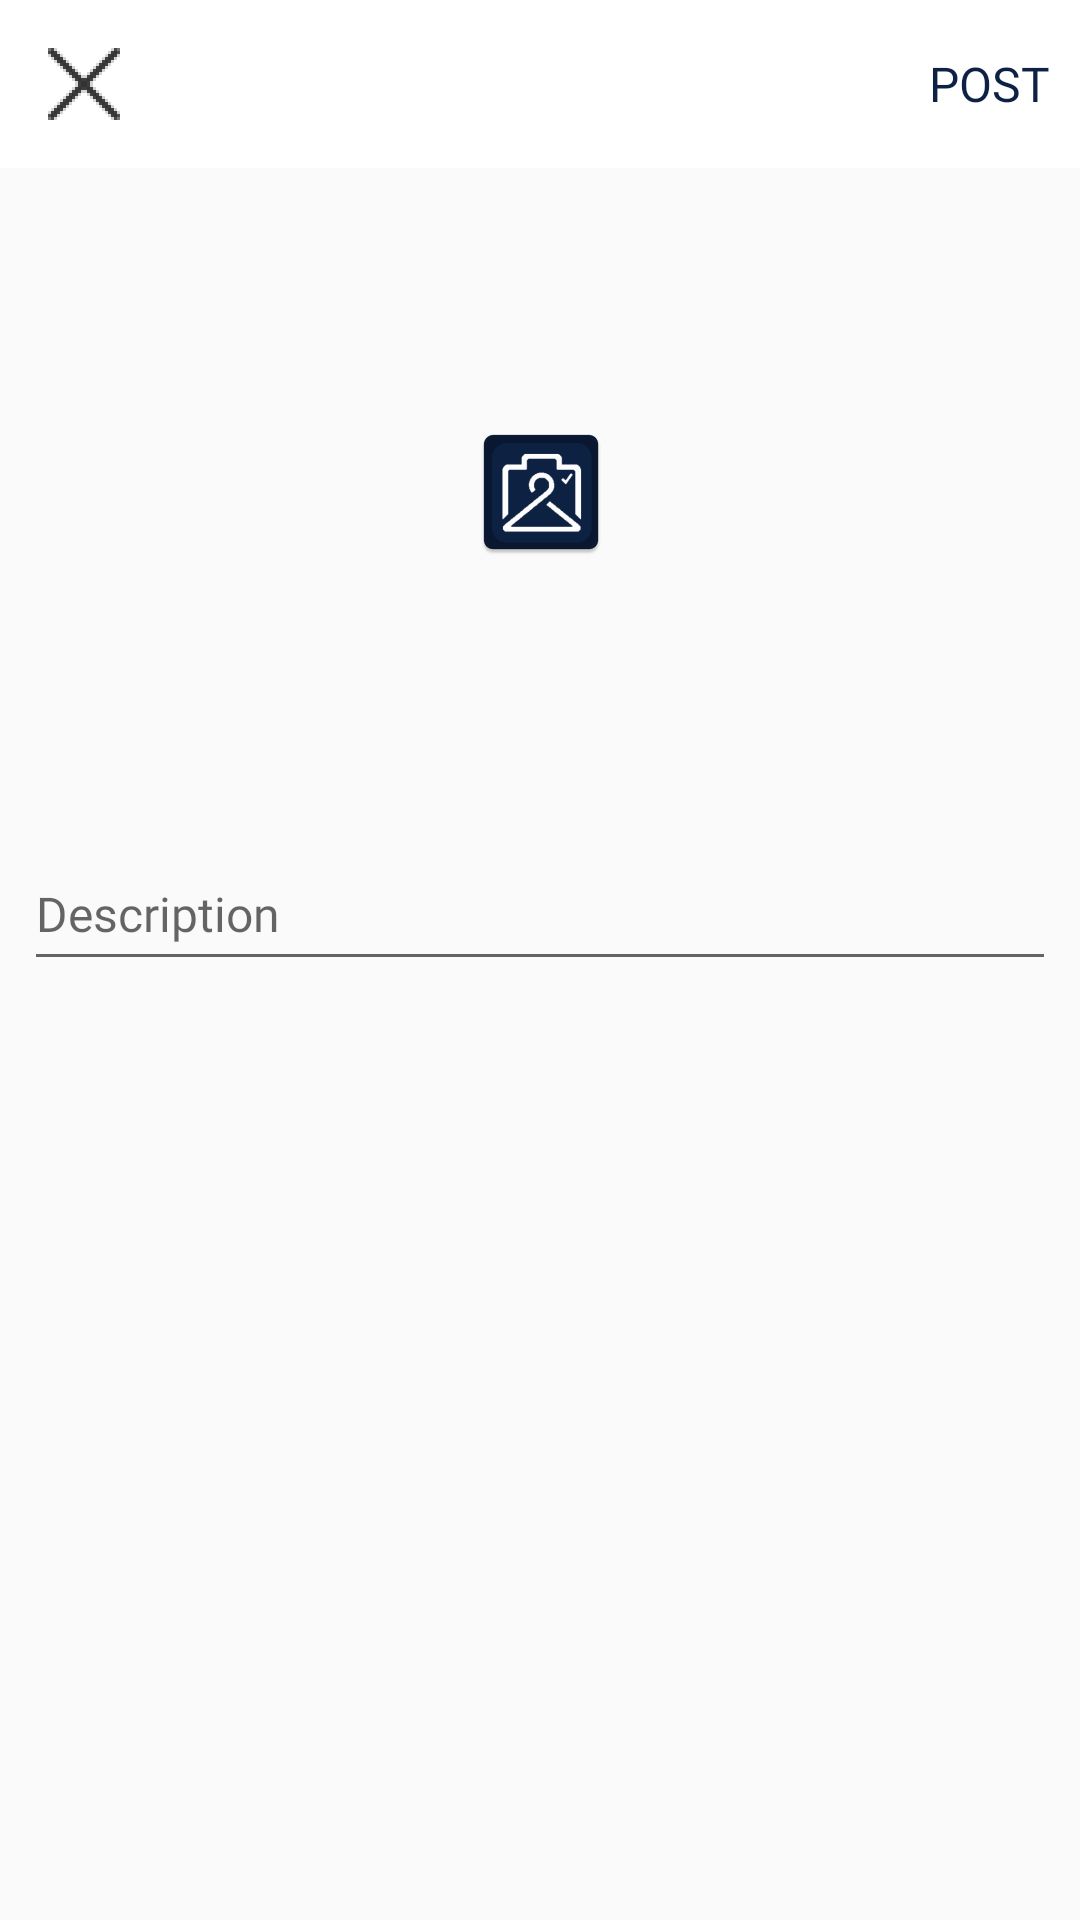

Icon bounding boxes for this 1080 × 1920 phone screenshot, format [left=x1, top=y1, right=x2, bottom=y2]:
close: [left=48, top=48, right=120, bottom=120]
